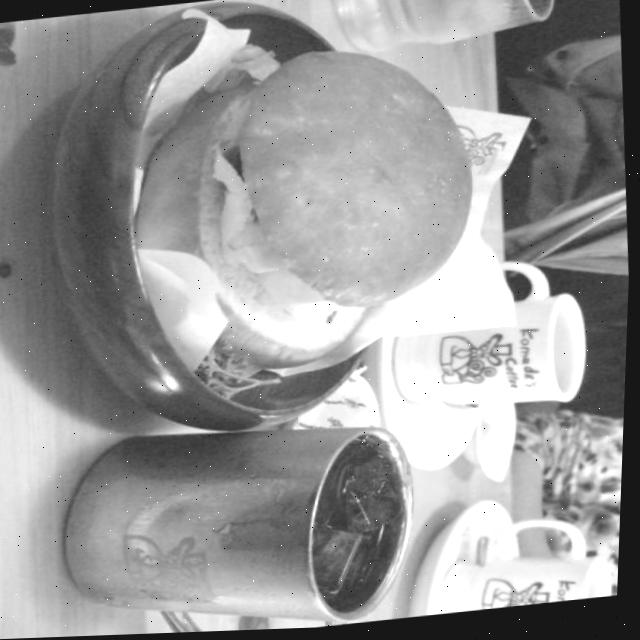汉堡快餐: (112, 37, 497, 382)
